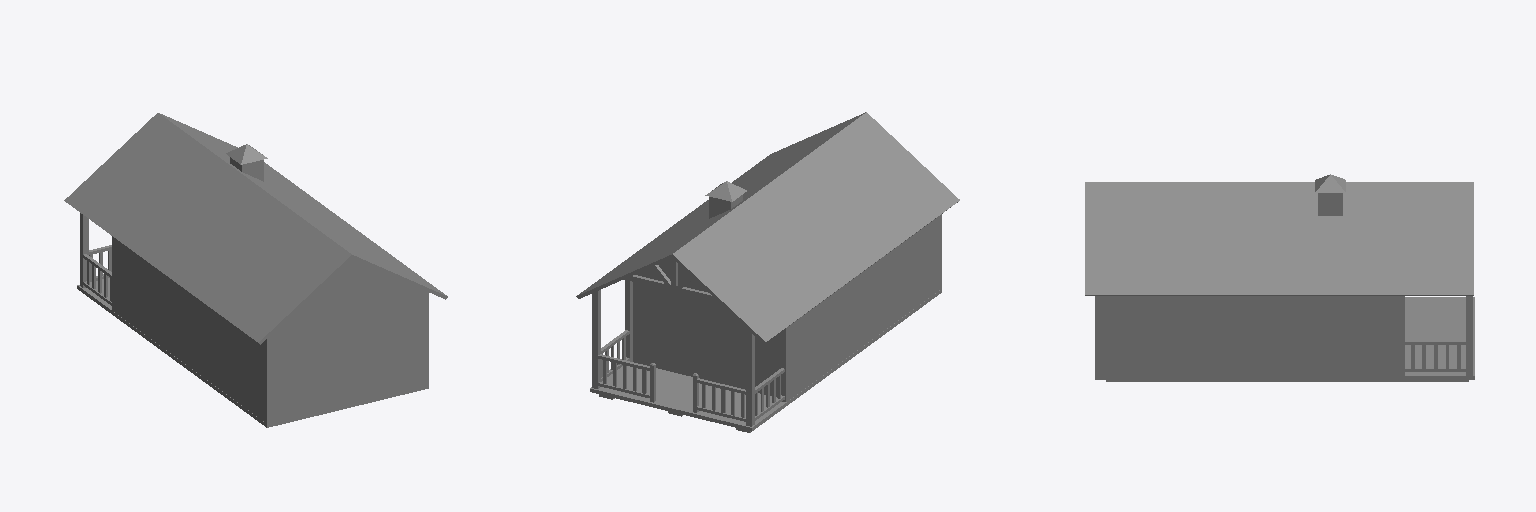
Rendered from Snow covered CottageOBJ.obj.
3 renders of one model, left to right at view 1: azimuth 30°, elevation 25°; view 2: azimuth 150°, elevation 25°; view 3: azimuth 270°, elevation 25°, orthographic.
Visible parts, largest first — view 1: Cottage_House; view 2: Cottage_House; view 3: Cottage_House.
Part boxes in pixels (left/top/right/bottom): Cottage_House: left=64, top=113, right=447, bottom=427; Cottage_House: left=576, top=112, right=959, bottom=432; Cottage_House: left=1085, top=174, right=1474, bottom=381.
Size of the model in its own units: 65.76 by 59.31 by 117.